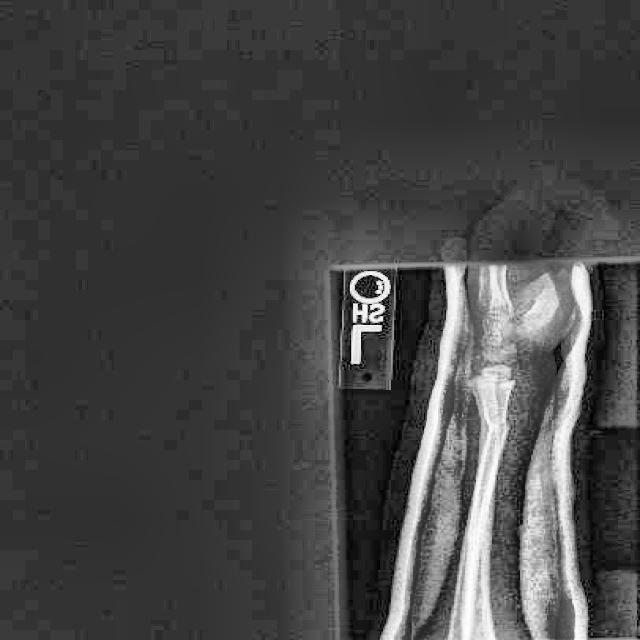forearm fracture: (469, 410, 532, 450)
